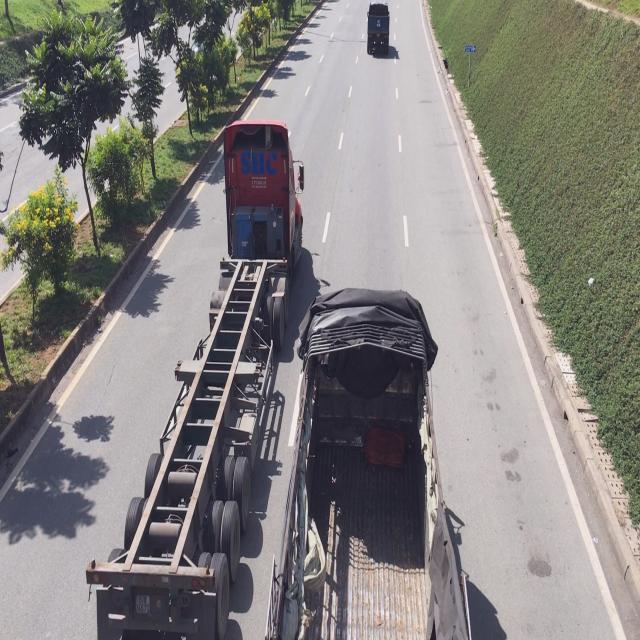truck: (90, 118, 304, 638), (264, 286, 471, 640), (367, 0, 392, 59)
